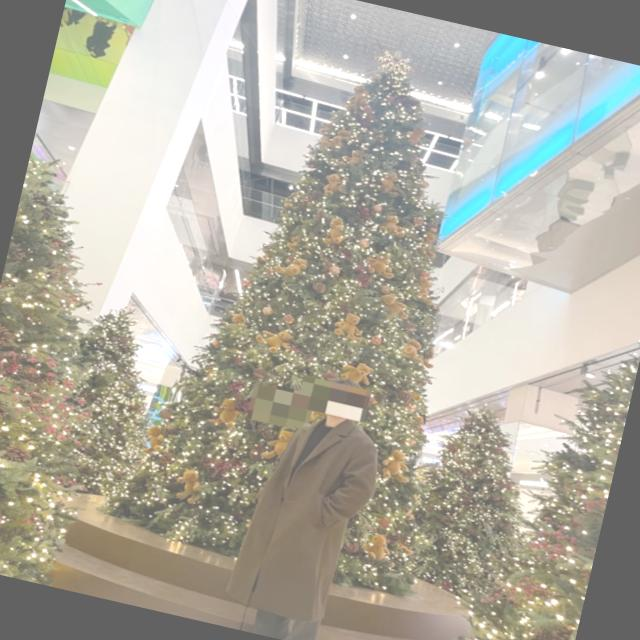coat: (222, 400, 386, 631)
slacks: (241, 608, 317, 640)
